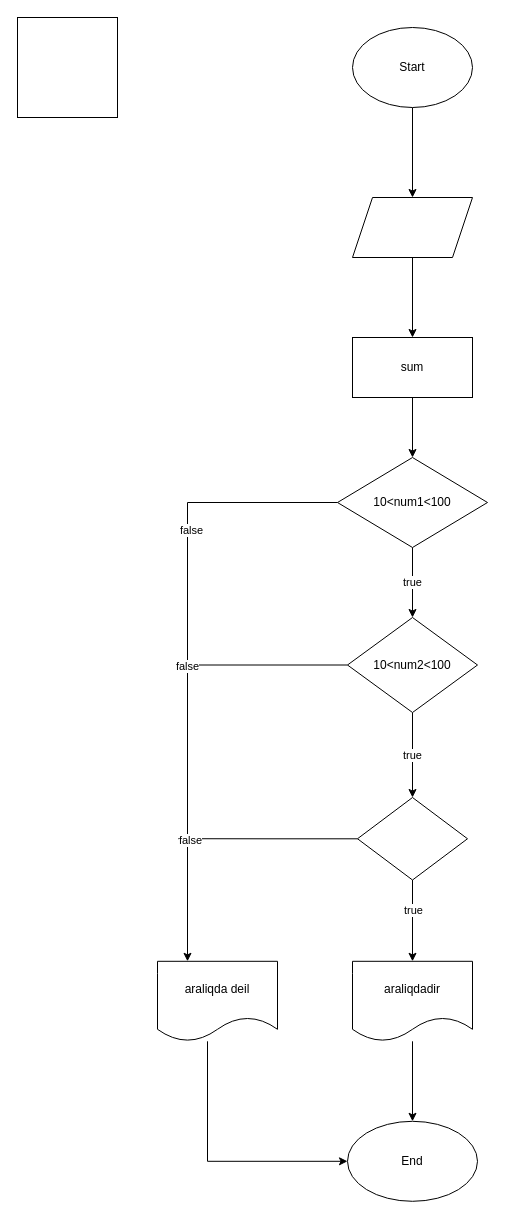
This 505x1219 diagram has some shape labels left out. Each missing label, with the box of its shape:
10<num3<100: (356, 796, 468, 880)
num1,num2,num3: (352, 196, 472, 258)
verilmis 3 ededden 10 ve 100 araliqinda yerlesenlerin hasilini tapan alqoritm: (16, 16, 118, 118)
